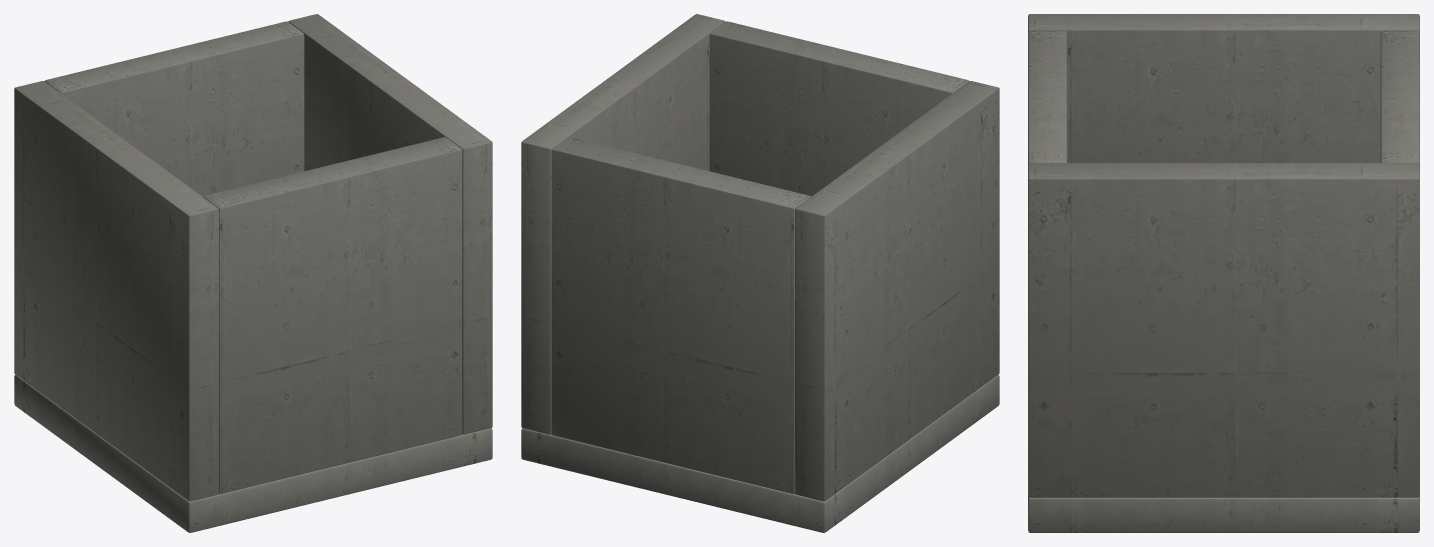
File: HID-CXS-005_anim.glb
3 views of the same model, side by side, from view 1: azimuth 30°, elevation 25°; view 2: azimuth 150°, elevation 25°; view 3: azimuth 270°, elevation 25° (orthographic). The views are drawn at different scales.
Visible parts, largest first — view 1: HID-CXS-005_anim0; view 2: HID-CXS-005_anim0; view 3: HID-CXS-005_anim0.
Boxes of the visible parts, x1=… form: HID-CXS-005_anim0: x1=14, y1=14, x2=492, y2=532; HID-CXS-005_anim0: x1=521, y1=14, x2=999, y2=532; HID-CXS-005_anim0: x1=1028, y1=14, x2=1419, y2=532.
Bounding box in the file's own units: 0.6 × 0.6001 × 0.6.
4 materials, 3 textured.
